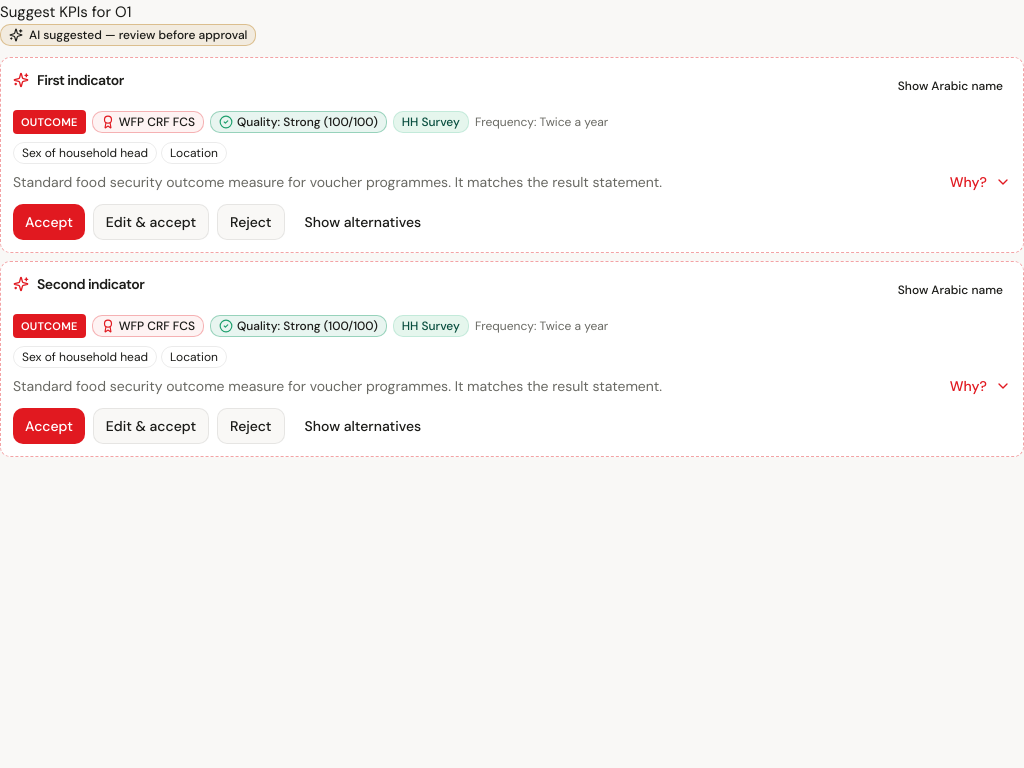
Scenario: Edit & accept answered 409 (UX-06, WCAG 2.4.3) › duplicate: the card stays and focus returns to its Edit & accept button
What coordinates should you click on to do the following:
click the button with aria-label "Edit & accept “First indicator”"
I would click on:
 (151, 222)
Its box is top-left (93, 204), bottom-right (209, 240).
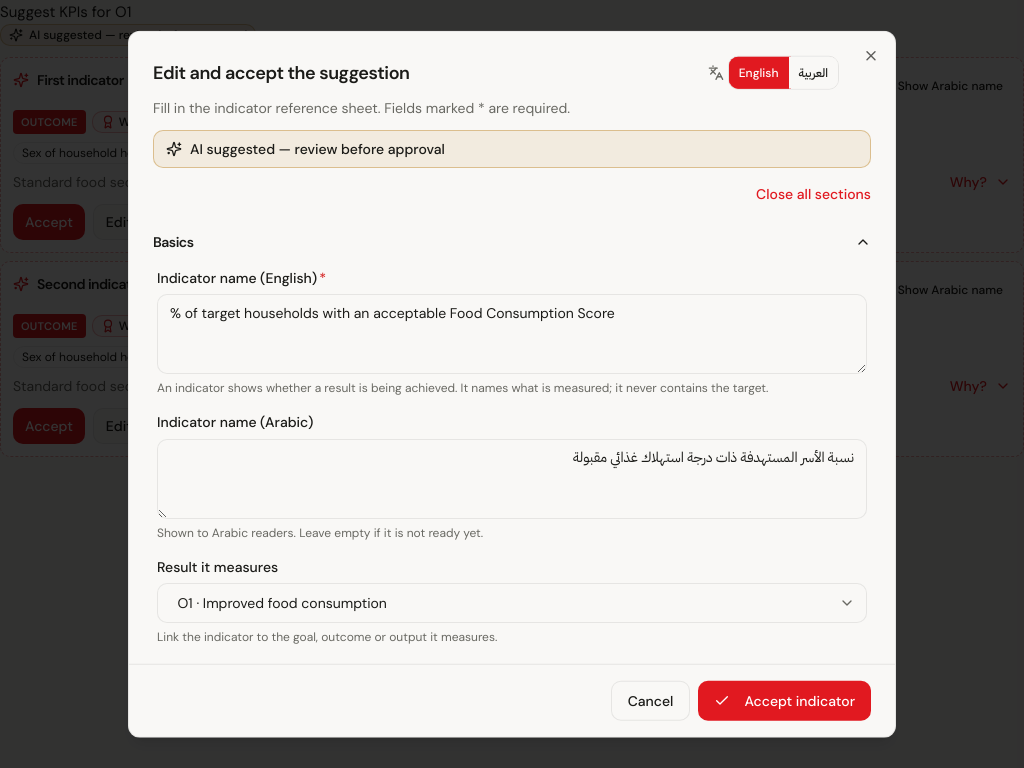
What coordinates should you click on to do the following:
click the button "Accept indicator"
I would click on:
 (785, 700)
Its box is top-left (698, 680), bottom-right (871, 720).
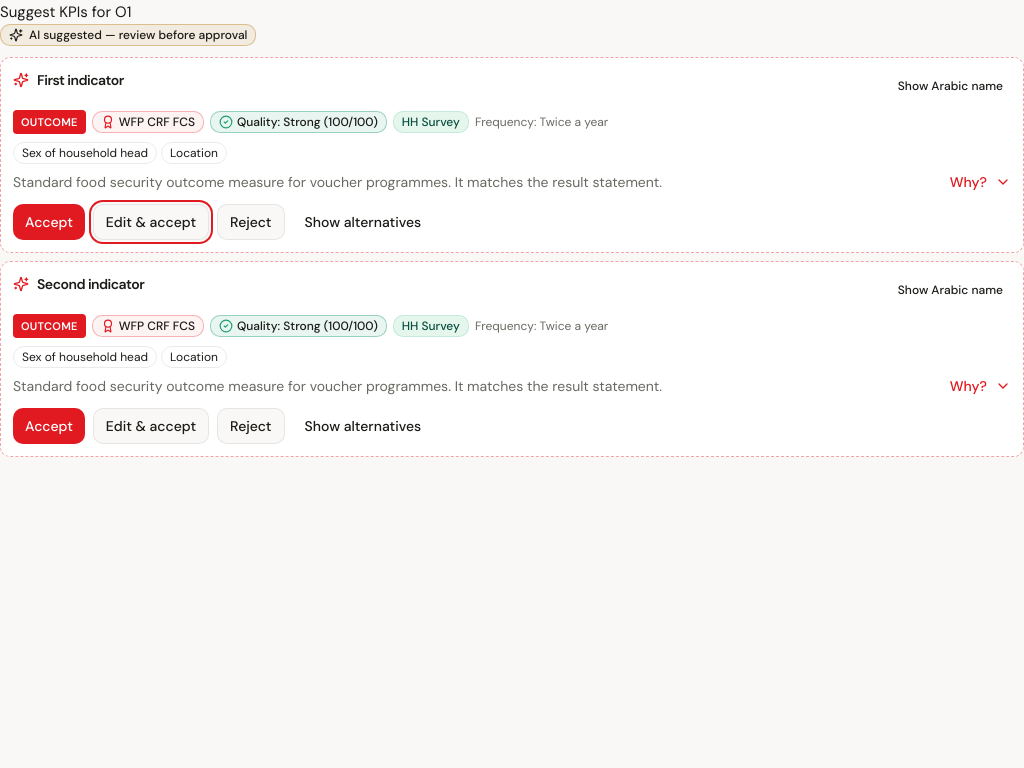
Expected: the heading "First indicator" is shown, top-left (37, 71), bottom-right (124, 89)
Expected: the dialog is gone
